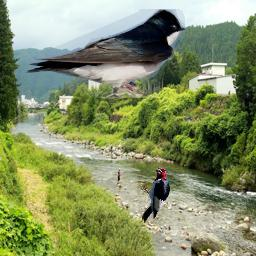Swallow: (25, 9, 185, 98)
Woodpecker: (139, 164, 170, 225)
